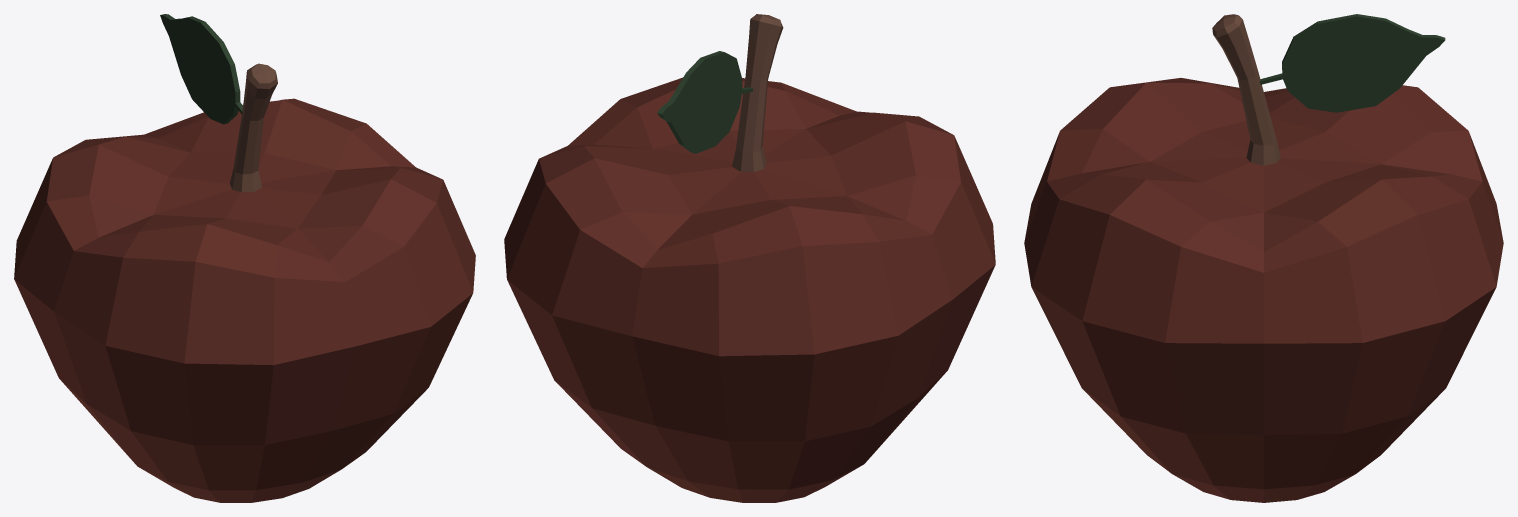
Rendered from apple_crop.gltf.
3 renders of one model, left to right at view 1: azimuth 30°, elevation 25°; view 2: azimuth 150°, elevation 25°; view 3: azimuth 270°, elevation 25°, orthographic. The views are drawn at different scales.
Visible parts, largest first — view 1: apple_crop; view 2: apple_crop; view 3: apple_crop.
Boxes of the visible parts, x1=… form: apple_crop: x1=14, y1=14, x2=475, y2=502; apple_crop: x1=504, y1=14, x2=995, y2=502; apple_crop: x1=1024, y1=14, x2=1503, y2=502.
Size of the model in its own units: 0.1575 by 0.168 by 0.1583.
Materials: 1 (1 with a texture image).
